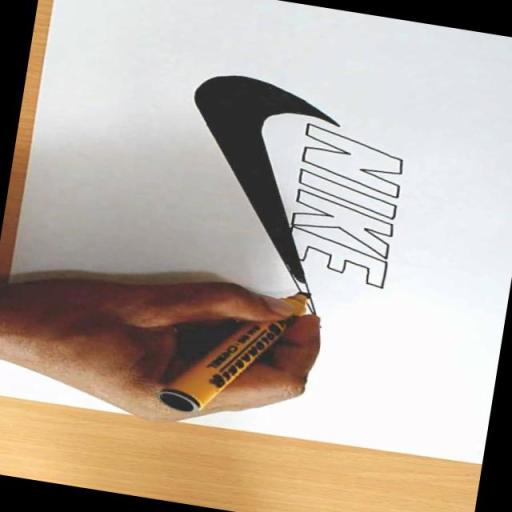Nike: (167, 70, 319, 270), (276, 124, 412, 290)
